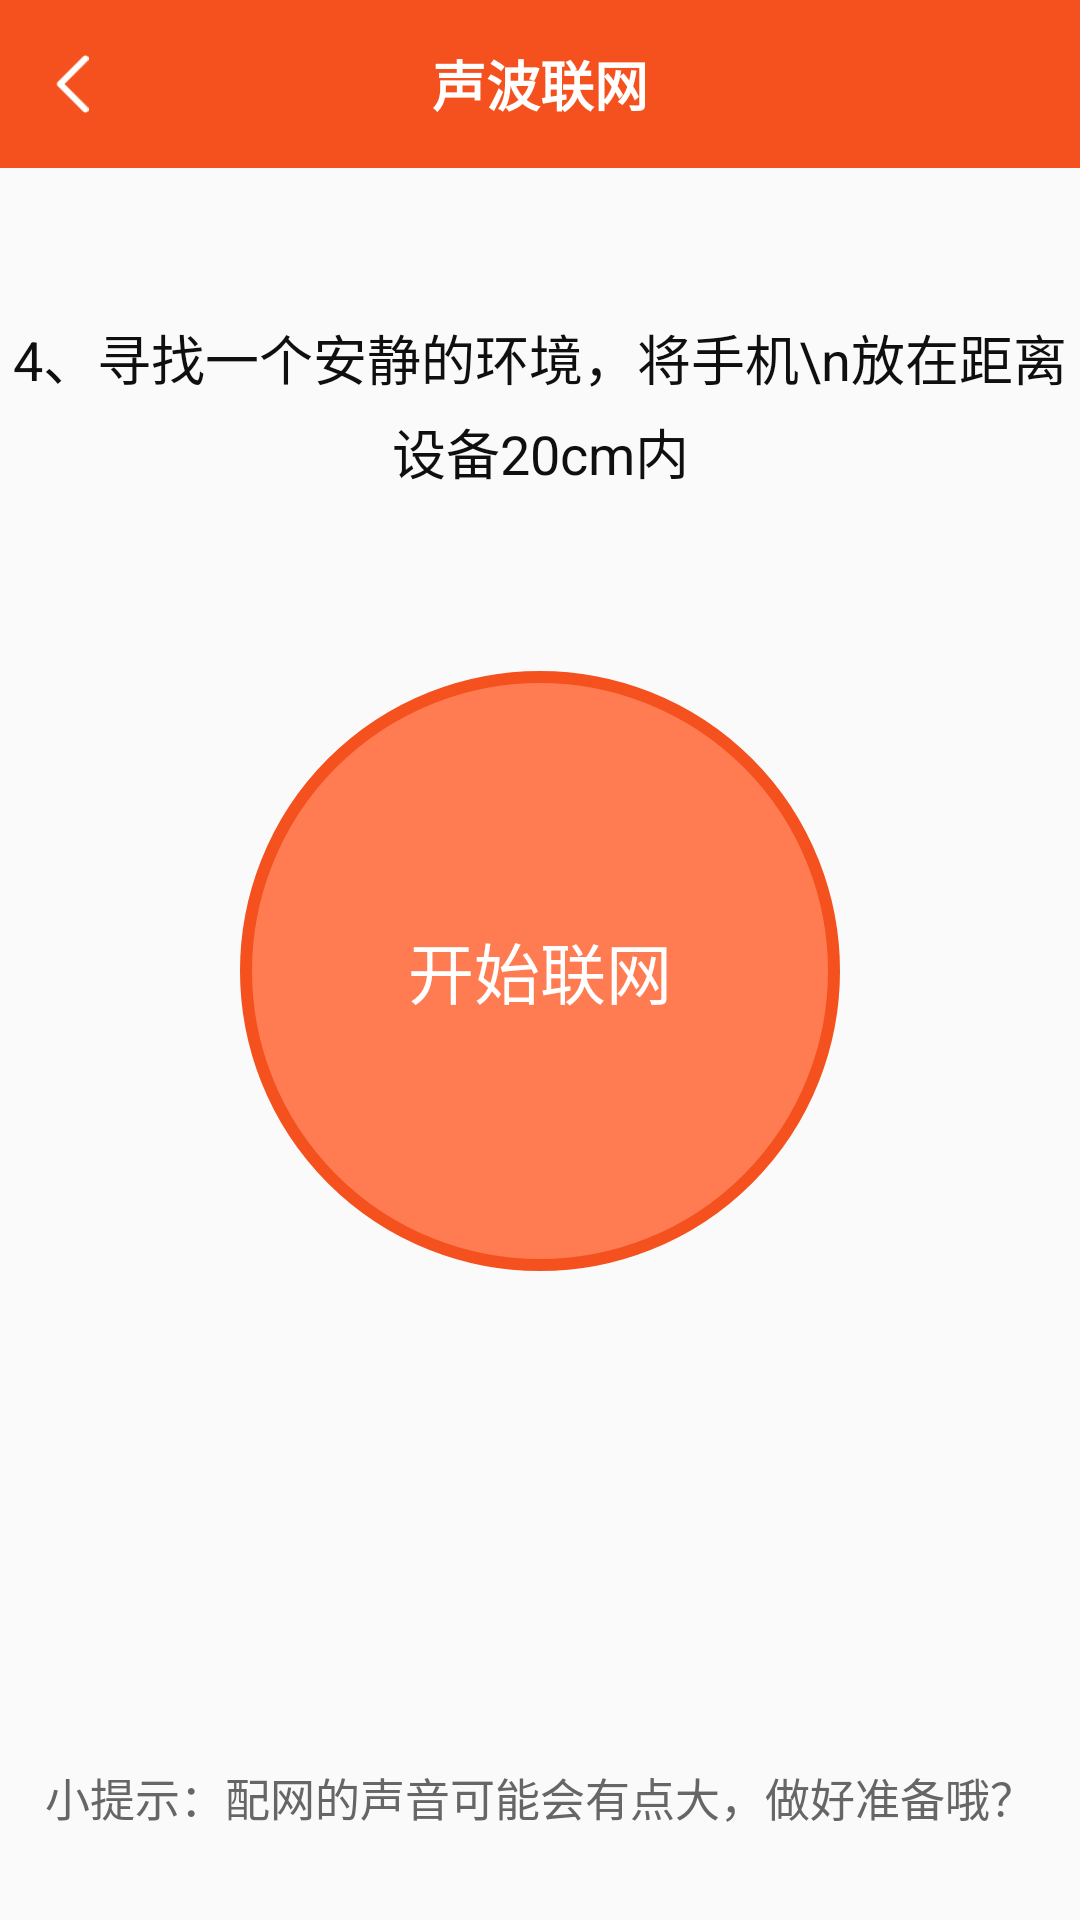

Where icons sit on this 1080×1920 app screen, as BBox(x1, y1, x2, y2):
fanhui: BBox(56, 55, 89, 113)
